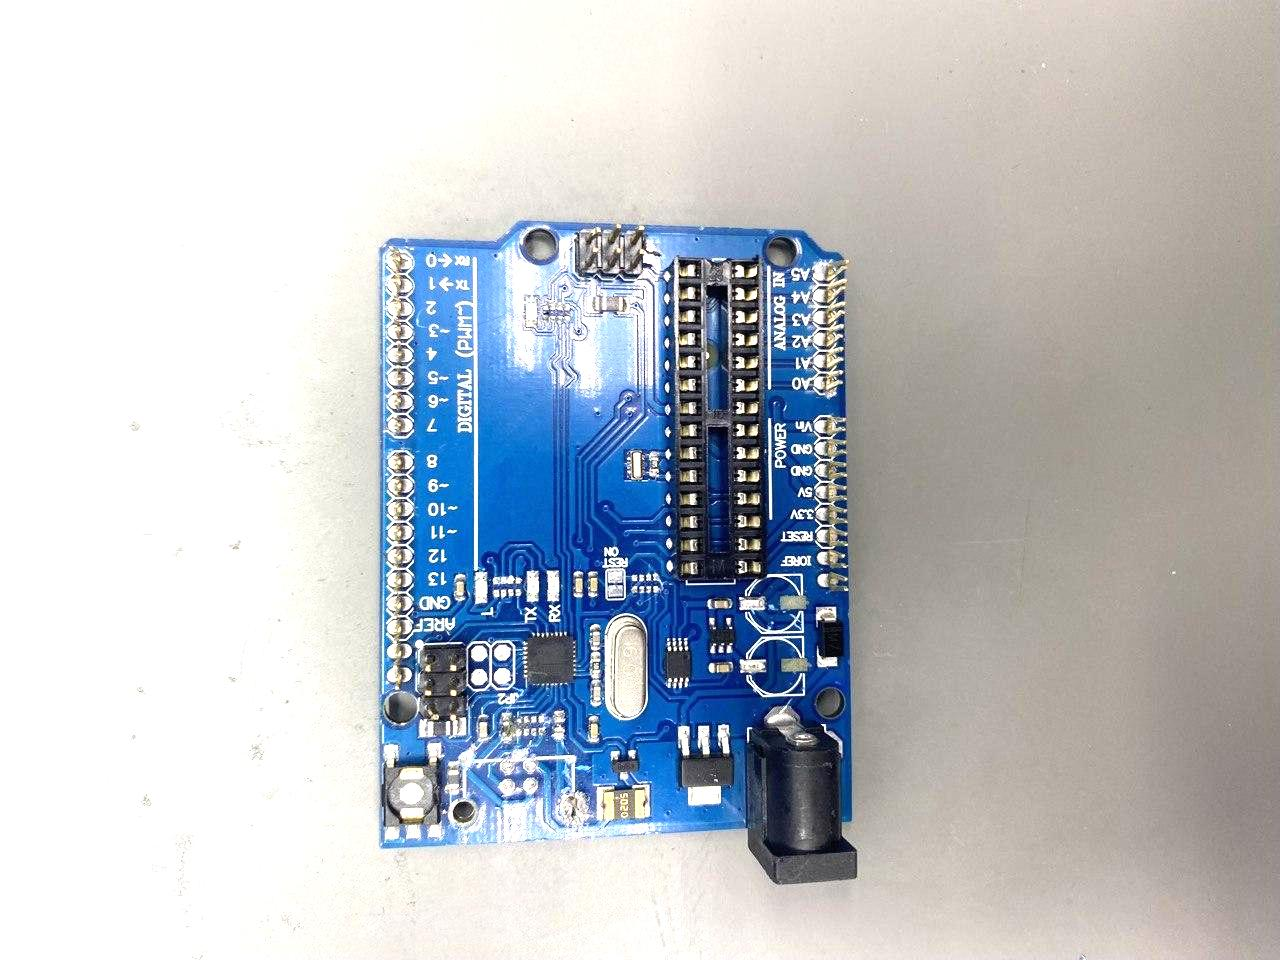Arduino board: (379, 218, 858, 883)
